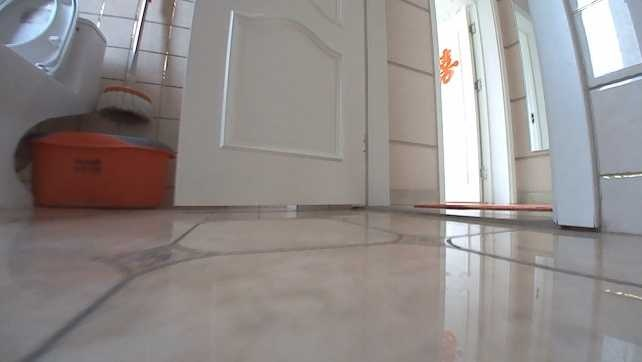door_anno: (169, 0, 390, 211)
door_sill: (389, 204, 558, 228)
toilet: (0, 0, 109, 208)
